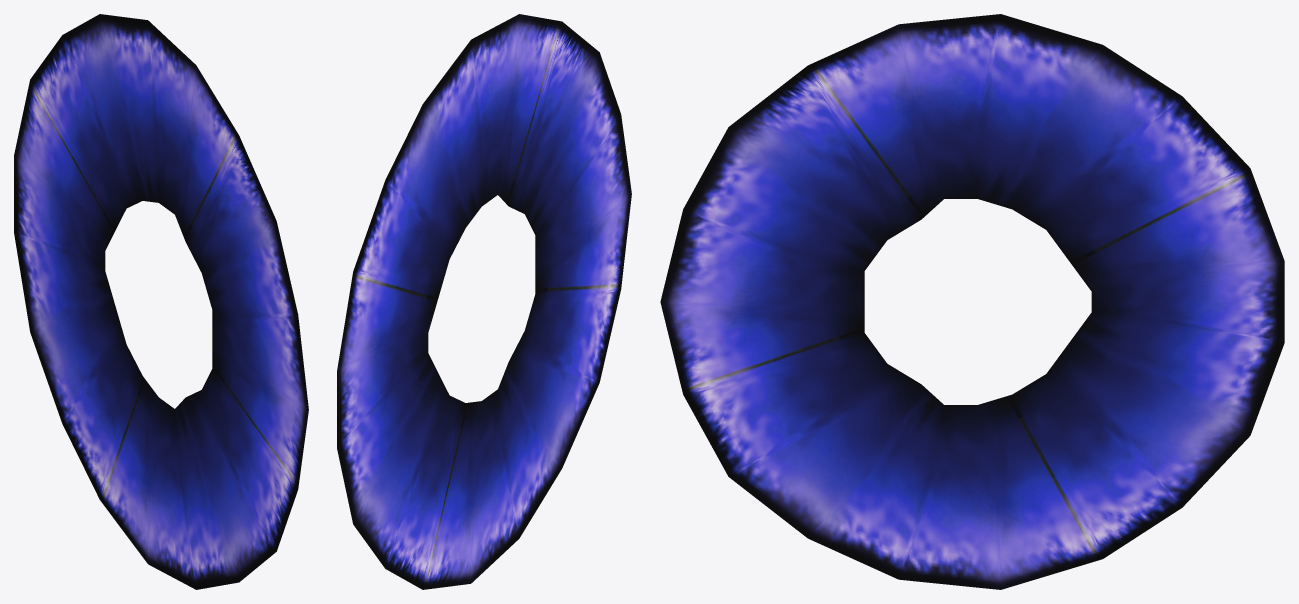
File: ring.gltf
3 views of the same model, side by side, from view 1: azimuth 30°, elevation 25°; view 2: azimuth 150°, elevation 25°; view 3: azimuth 270°, elevation 25° (orthographic). The views are drawn at different scales.
Visible parts, largest first — view 1: ring; view 2: ring; view 3: ring.
Part boxes in pixels (x1,y1,x2,y2): ring: (14,14,308,589); ring: (337,14,631,589); ring: (660,14,1284,589).
Size of the model in its own units: 2.26e-17 by 0.3685 by 0.3619.
Materials: 1 (1 with a texture image).
